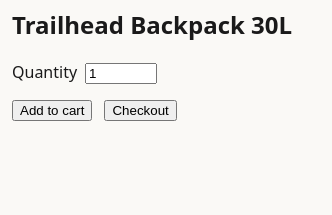
Test: ProductPage › shows a success message when checkout confirms the order
Click the button "Checkout": (141, 110) [104,100,177,121]
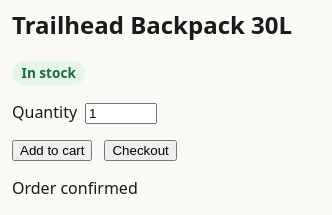
Now the text "Order confirmed" is shown, box [12,177,138,199]
